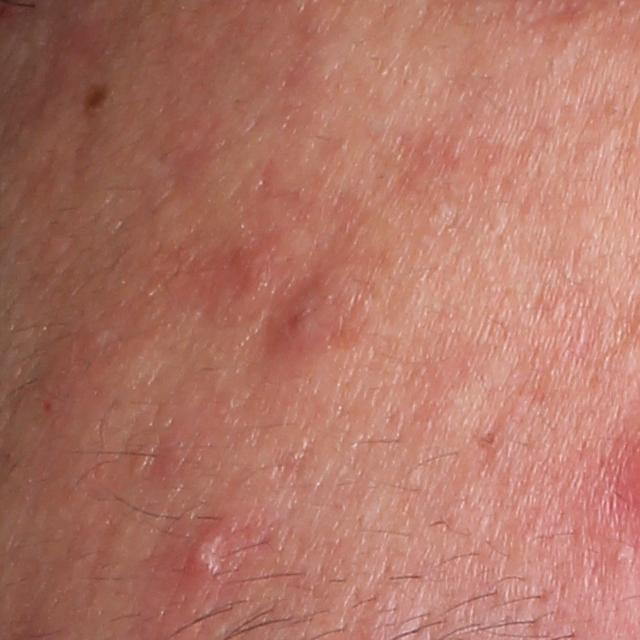comedo: (480, 429, 500, 448)
nevus: (81, 81, 117, 119)
papule: (268, 292, 331, 356), (182, 516, 227, 581)
